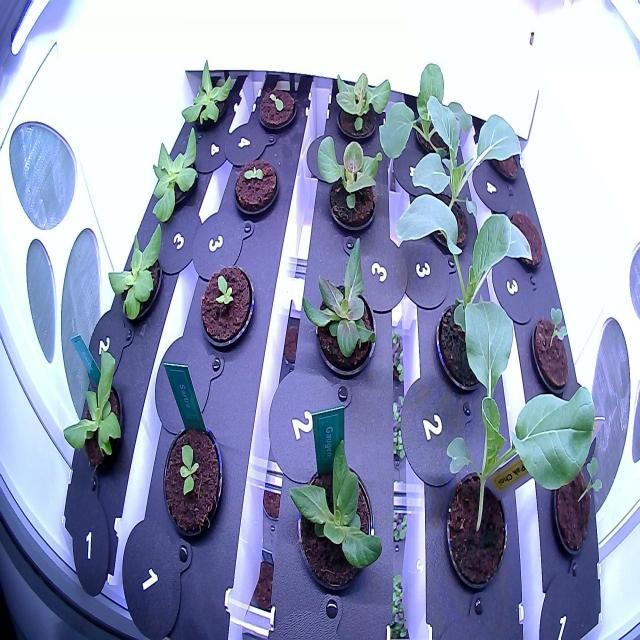germination: (548, 438, 606, 572), (527, 296, 574, 401), (230, 149, 284, 227), (252, 80, 300, 139)
pod: (503, 204, 544, 278)
young: (284, 432, 387, 604), (297, 231, 384, 385), (58, 344, 139, 478), (156, 415, 225, 551), (312, 119, 389, 238), (102, 219, 173, 339), (324, 59, 396, 151), (141, 122, 205, 225), (197, 257, 262, 353), (176, 54, 238, 139)
